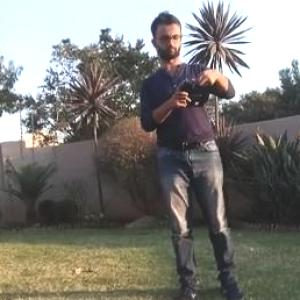follow: (131, 2, 249, 299)
